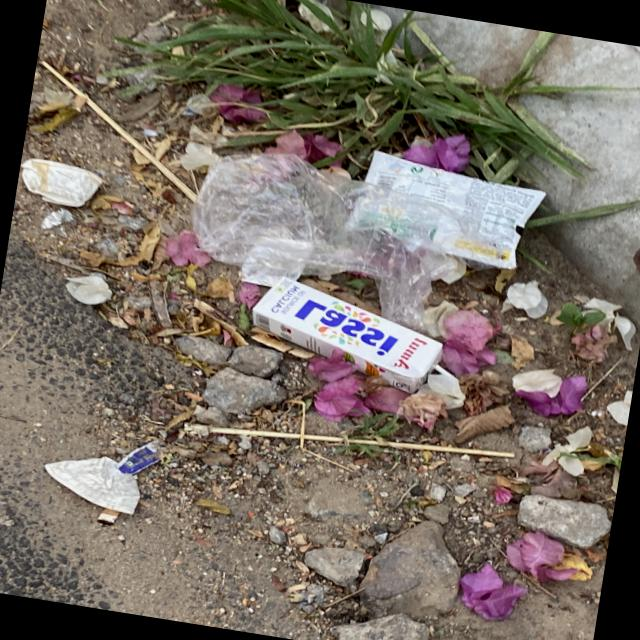giay: (366, 151, 547, 268)
giay_goi: (117, 441, 161, 475)
ly_hop_giay: (252, 279, 443, 393)
nhua: (192, 153, 517, 331)
